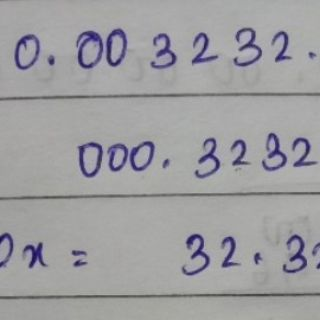.: (159, 154, 172, 170), (251, 251, 264, 267), (44, 50, 56, 67)
0: (75, 29, 105, 71), (76, 138, 104, 180), (13, 31, 41, 70), (108, 137, 128, 174)
2: (191, 28, 218, 69), (291, 134, 320, 170), (217, 234, 243, 270), (228, 138, 251, 169)
3: (231, 24, 264, 67), (180, 231, 211, 276), (192, 137, 222, 179), (149, 30, 179, 71), (258, 132, 288, 173), (281, 231, 307, 276)
